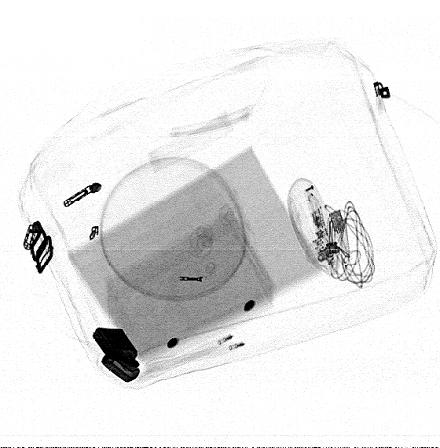Lighter: (92, 327, 141, 384)
